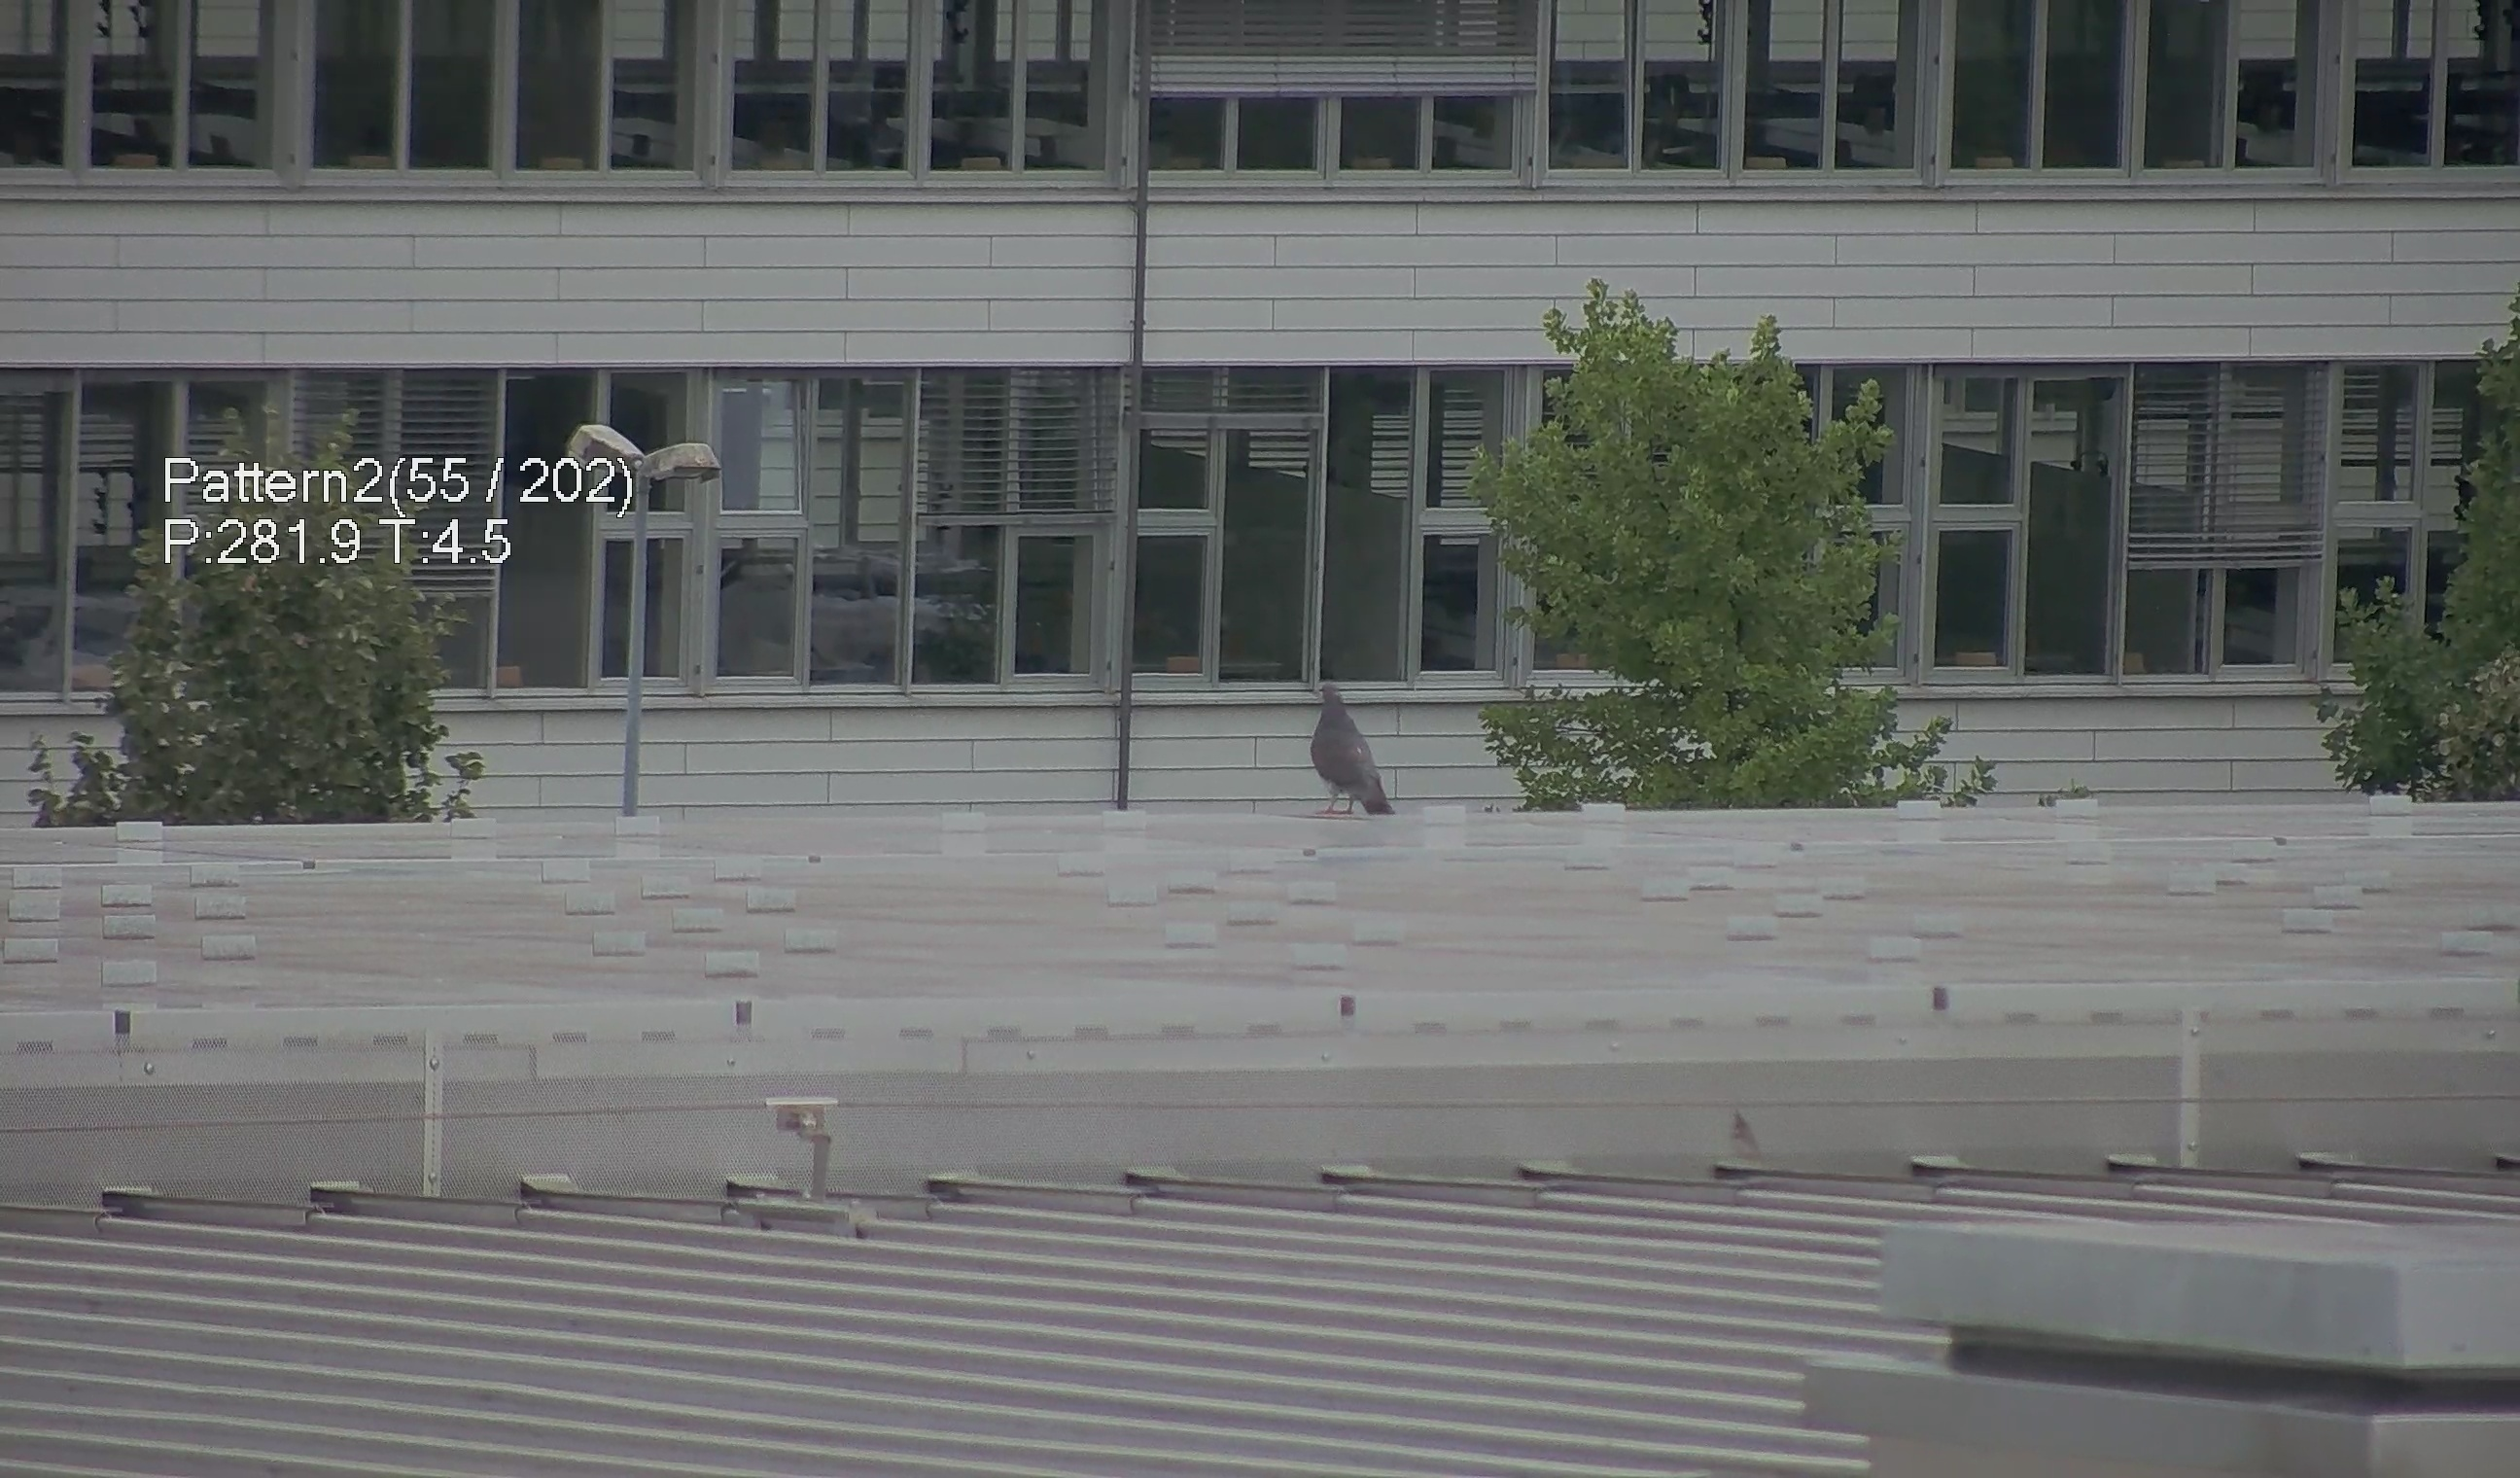Pigeon: (1296, 663, 1407, 825)
